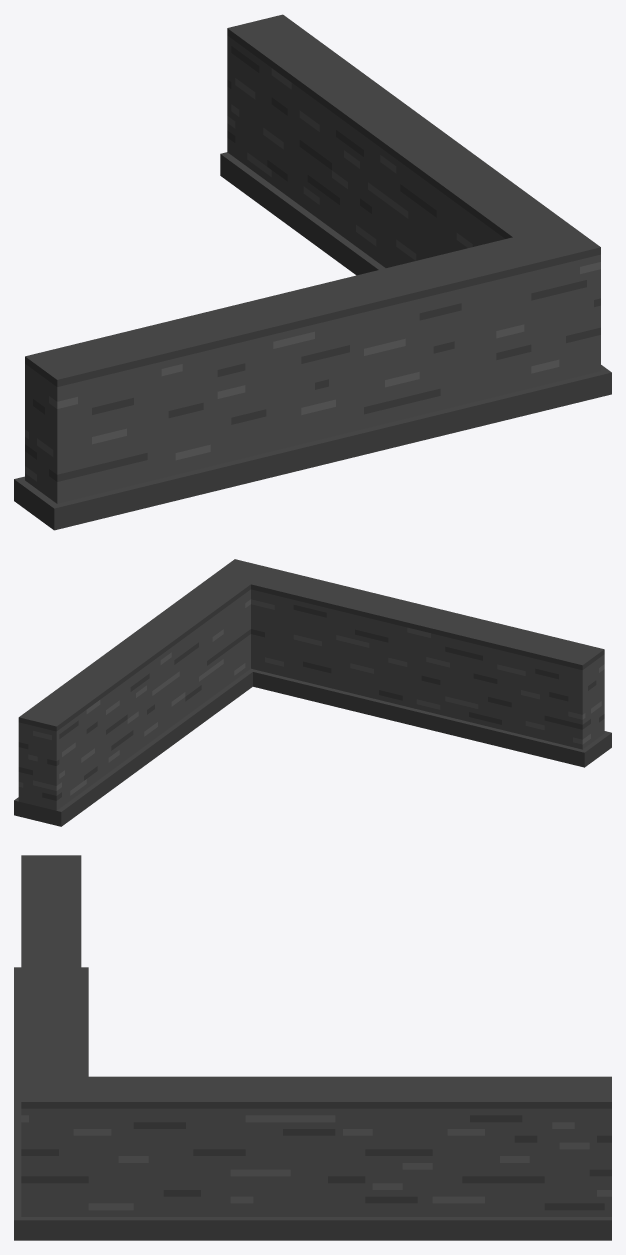
File: WallPiece - corner.obj
3 views of the same model, one above another, from view 1: azimuth 30°, elevation 25°; view 2: azimuth 150°, elevation 25°; view 3: azimuth 270°, elevation 25° (orthographic). The views are drawn at different scales.
Size of the model in its own units: 8 by 2 by 8.
1 material, 1 textured.
